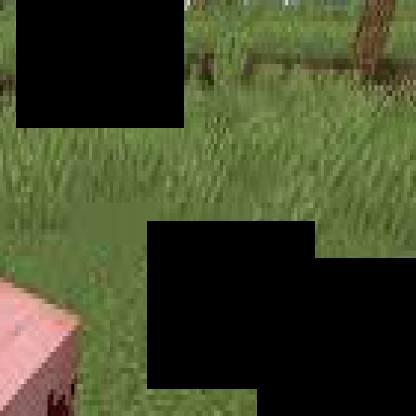minecraft-pigs: (0, 256, 98, 411)
